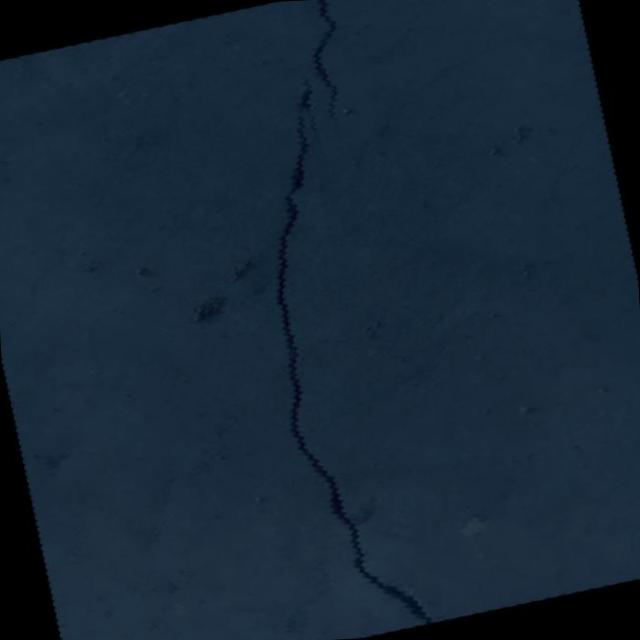crack: (217, 57, 448, 640), (302, 0, 355, 117)
